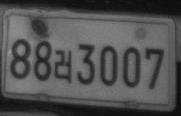0: (121, 46, 141, 88), (99, 44, 118, 87)
3: (77, 44, 95, 84)
7: (144, 47, 165, 89)
8: (9, 38, 31, 79), (33, 40, 51, 81)
러: (53, 48, 72, 82)
